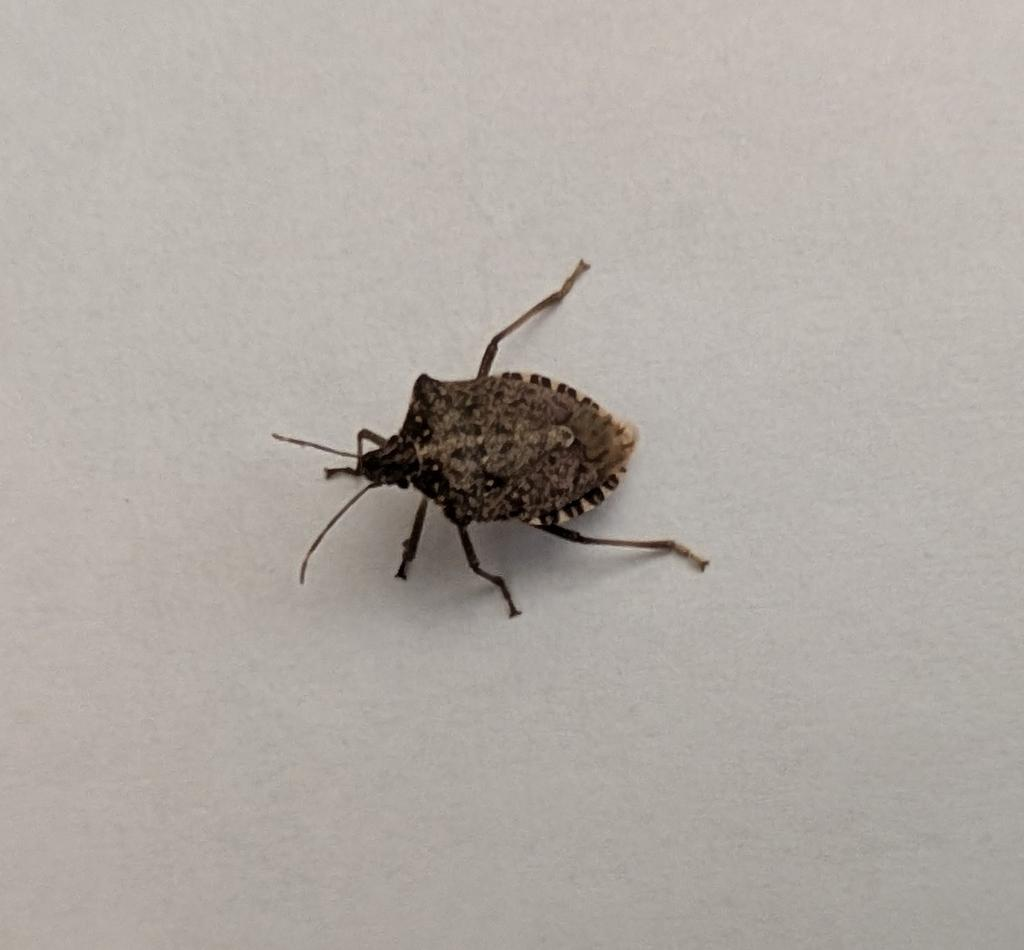stink_bugs: (211, 225, 750, 666)
